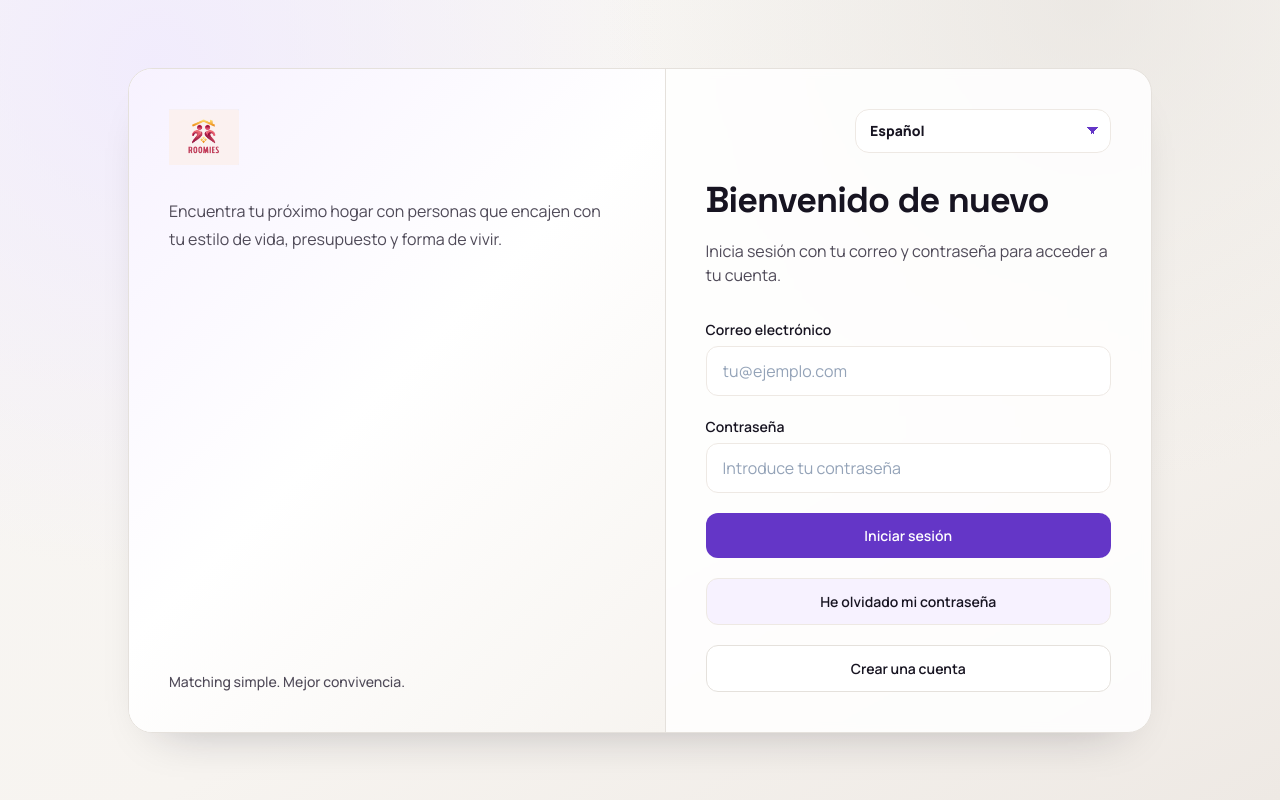
Test case: LoginPage › sends forgot password request successfully
Type "test@test.com" into the field labelled "Correo electrónico" at (908, 370), box top-left (706, 346), bottom-right (1111, 396)
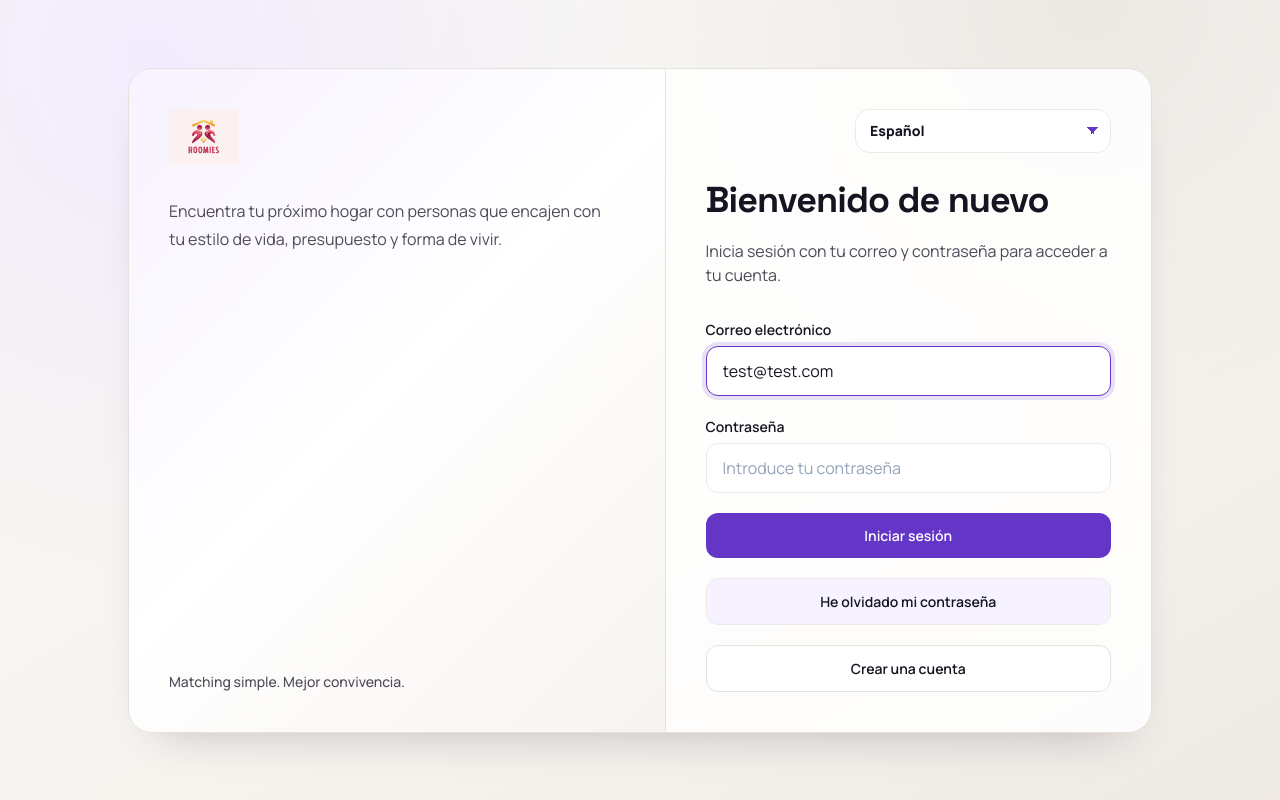
Click the button "He olvidado mi contraseña" at (908, 601), box top-left (706, 578), bottom-right (1111, 624)
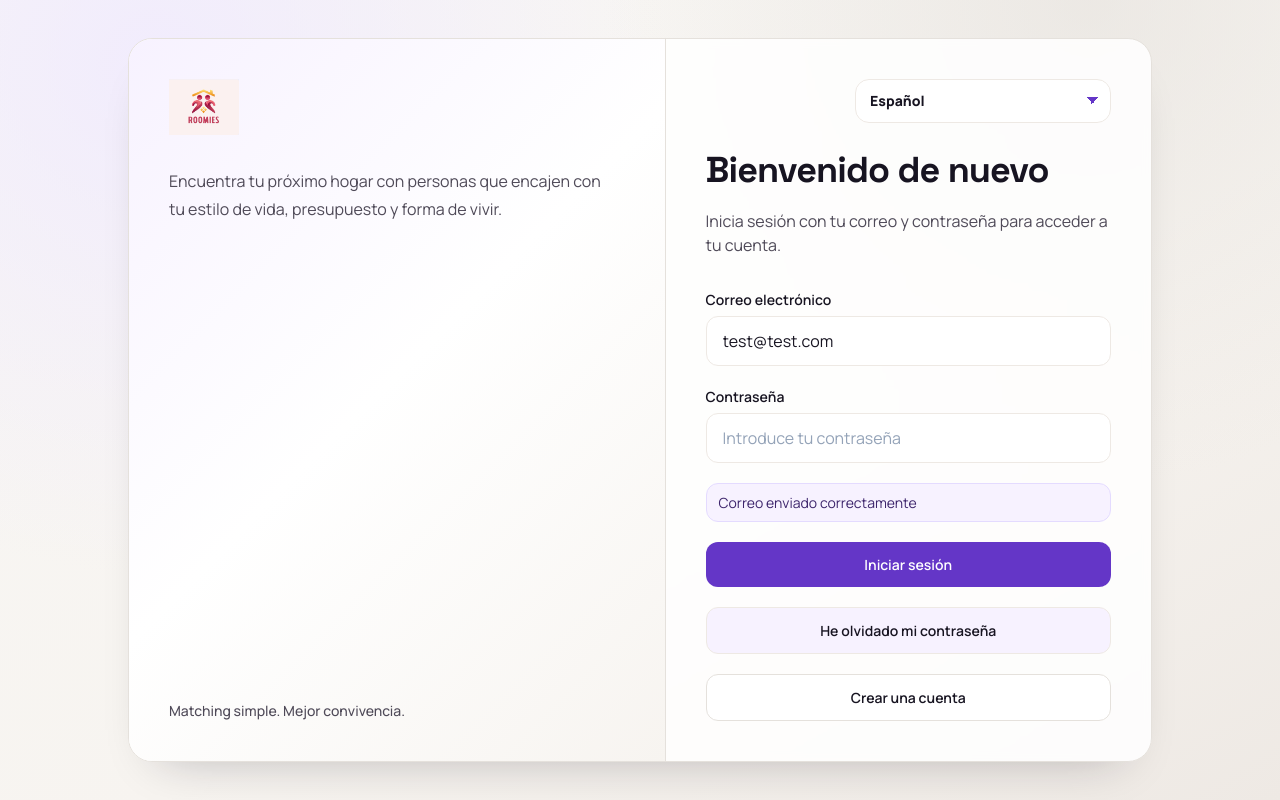
Result: the text "Correo enviado correctamente" is shown at top-left (706, 483), bottom-right (1111, 522)
